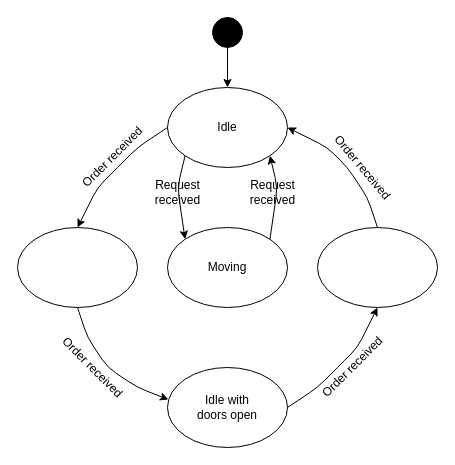
Image size: 455x465. Some labels were removed from this diagram. Each missing label, with the box of its shape:
Doors closing: (316, 226, 438, 308)
Doors opening: (16, 226, 138, 308)
